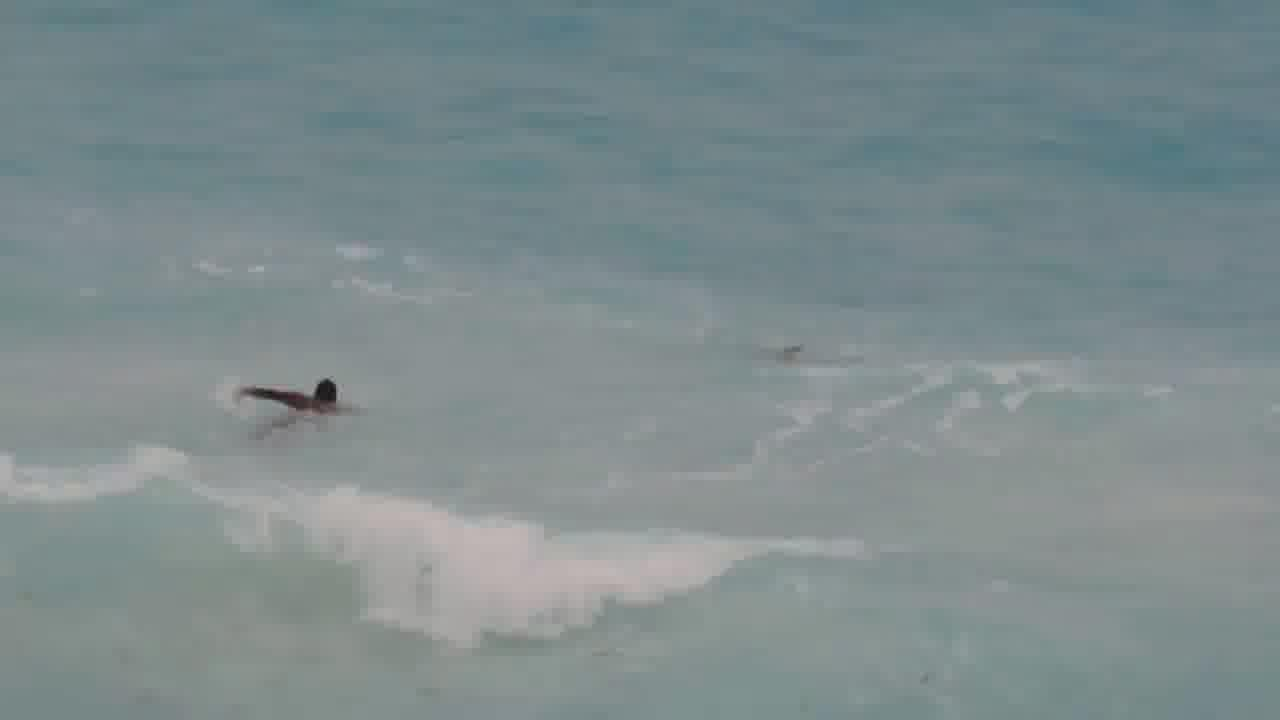swimmer: (215, 367, 357, 436)
